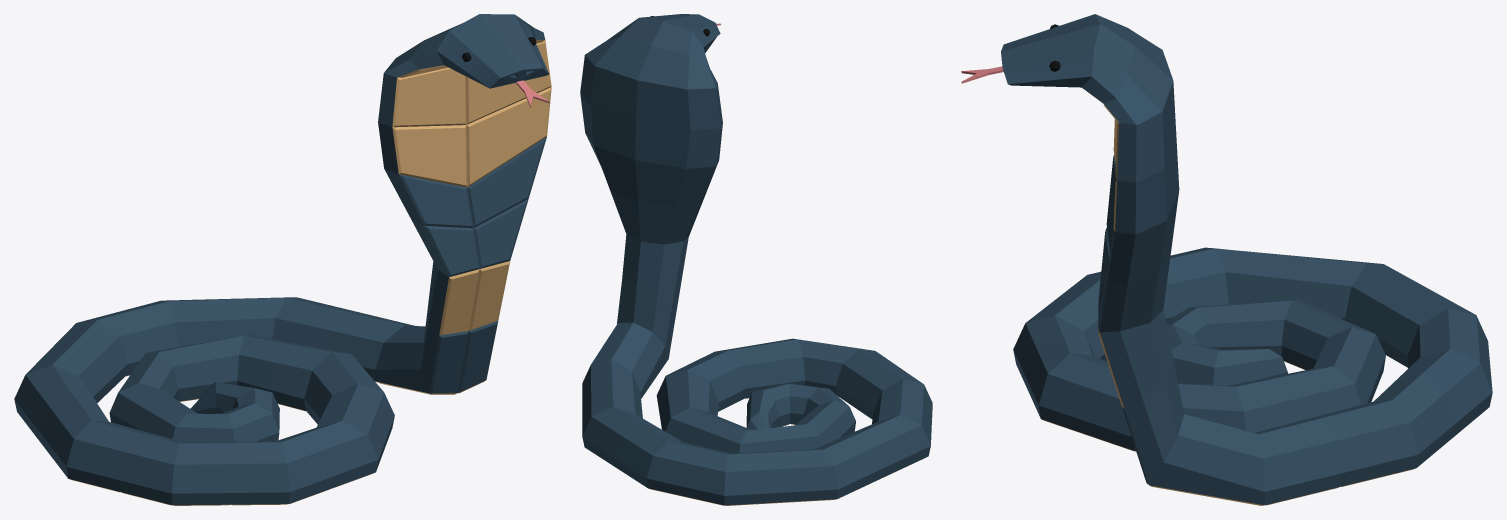
Rendered from Snake_01.fbx.
The picture shows the model from 3 angles, left to right: view 1: azimuth 30°, elevation 25°; view 2: azimuth 150°, elevation 25°; view 3: azimuth 270°, elevation 25°; orthographic projection. The views are drawn at different scales.
Visible parts, largest first — view 1: Snake_01; view 2: Snake_01; view 3: Snake_01.
Boxes of the visible parts, bbox=[...] form: Snake_01: bbox=[14, 14, 551, 505]; Snake_01: bbox=[580, 14, 932, 505]; Snake_01: bbox=[961, 14, 1492, 505].
Size of the model in its own units: 8.3 by 7.14 by 7.32.
